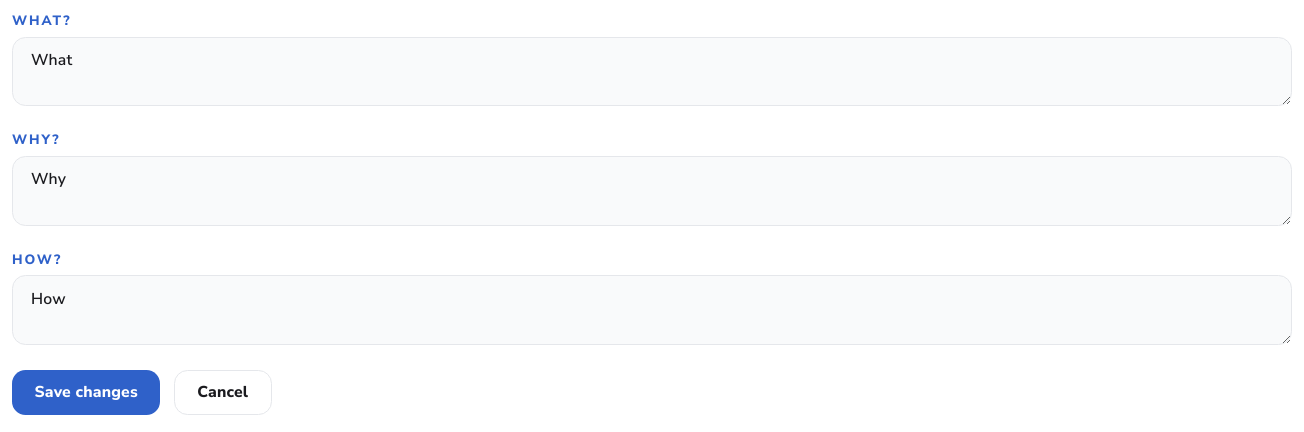
Test case: NotebookEntryEditForm › disables save when what is empty
Clear the text box labelled "What?": x=652, y=71 [12,37,1292,106]
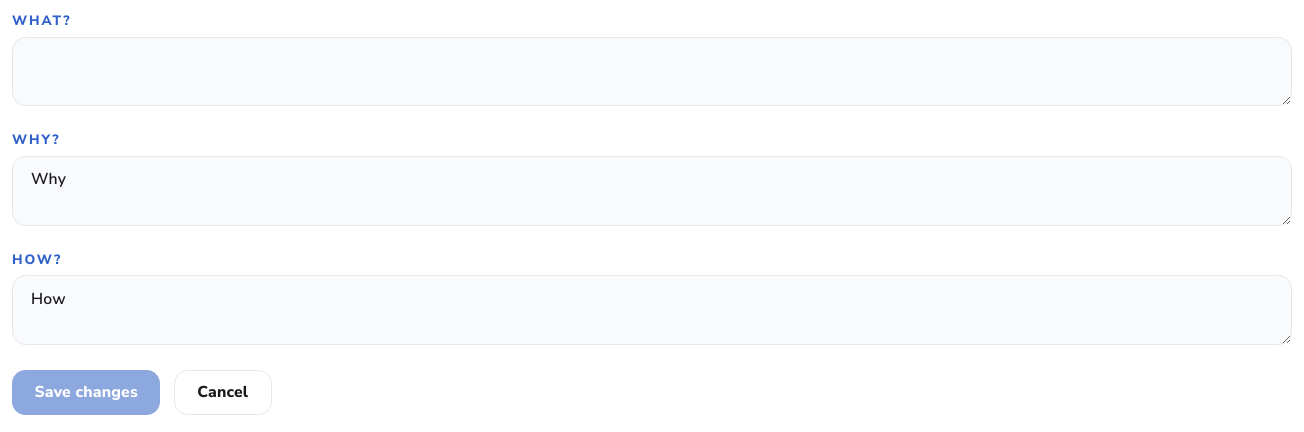
Expected: the button "Save changes" is disabled, [12,370,160,415]
